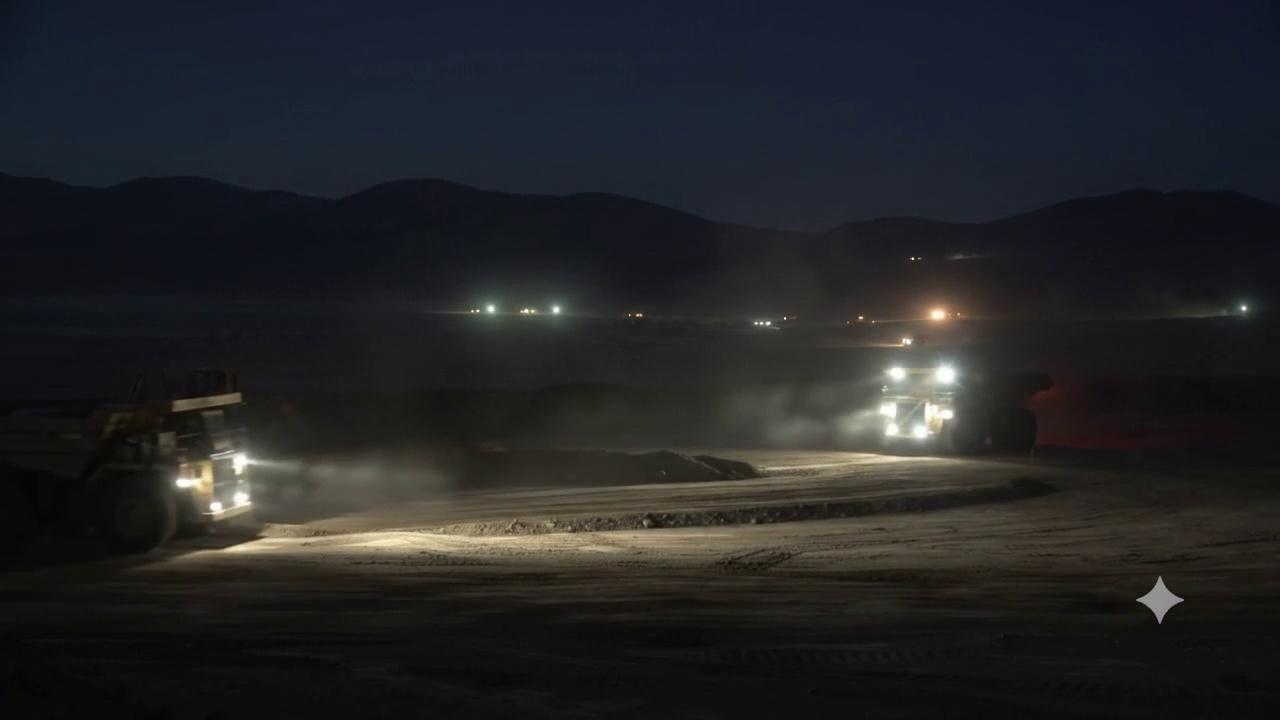CAEX: (0, 369, 258, 563)
